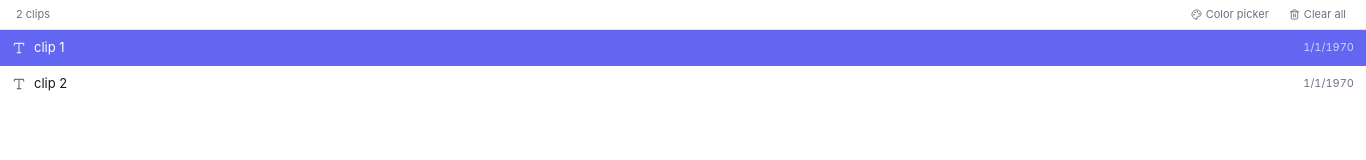
Test case: HistoryList — clear all is two-stage › asks before deleting, naming how many clips are at stake
Click the button titled "Delete all clipboard history" at (1317, 14), box [1281,4,1354,24]
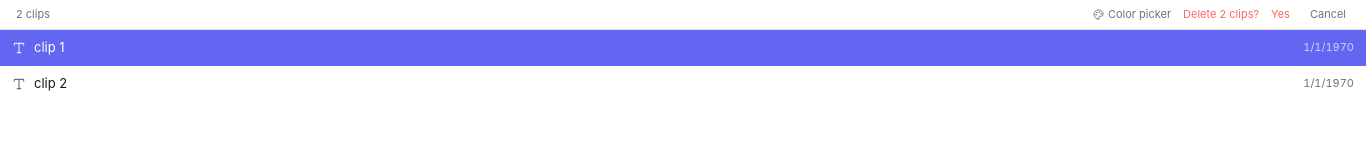
Result: the text "Delete 2 clips?" is shown at [1183,6,1259,22]
